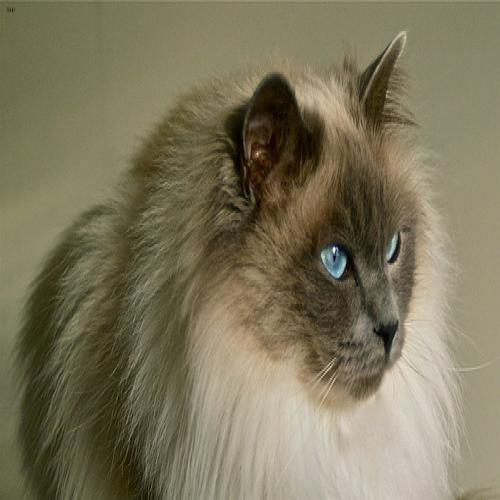ragdoll: (240, 17, 435, 444)
